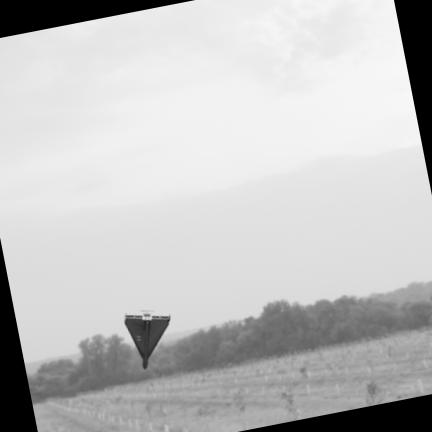Shahed: (125, 313, 170, 368)
